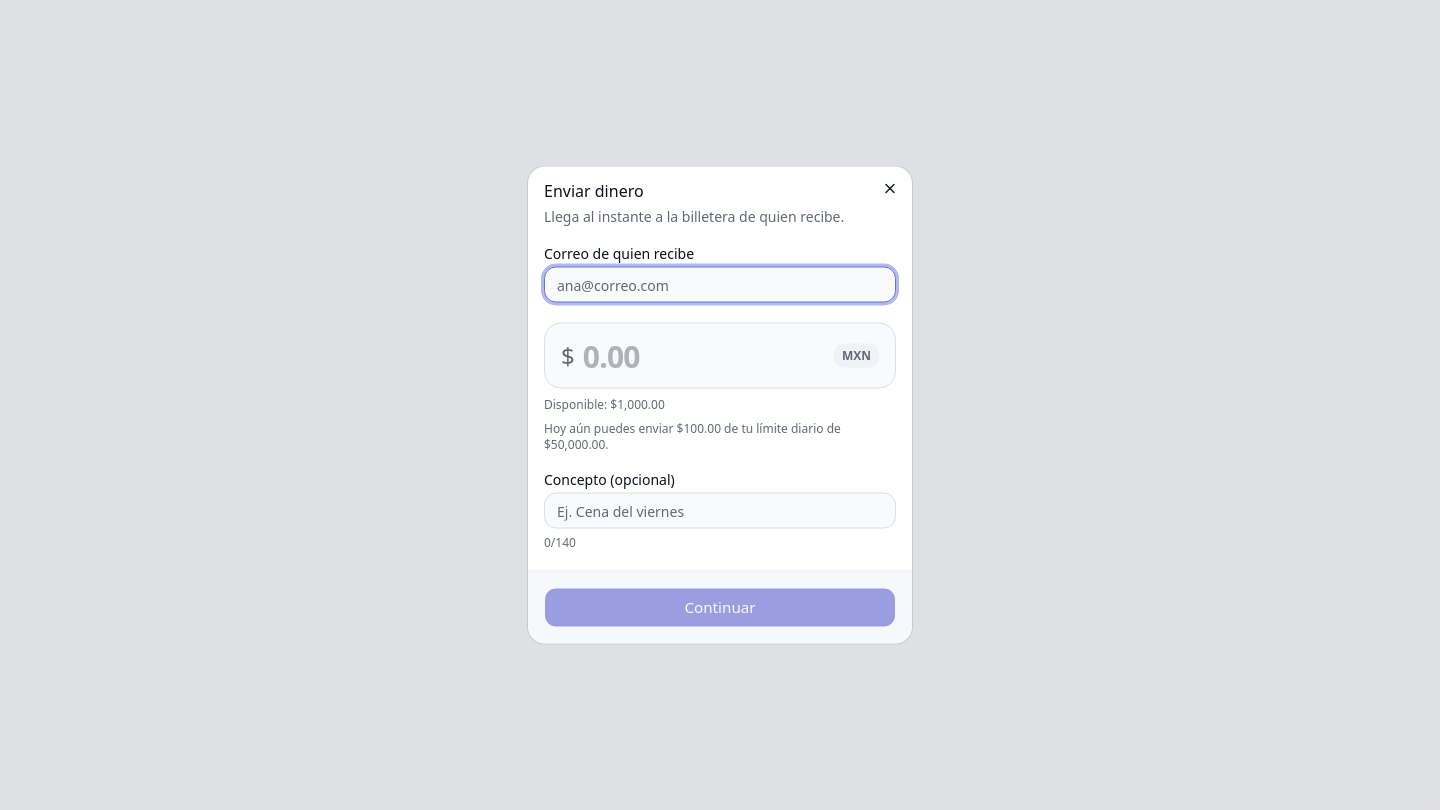
Test: TransferDialog › blocks amounts over what the daily limit still allows
Type "150" into the field named "Monto".
click(704, 356); type("150")  # box [583, 324, 826, 388]
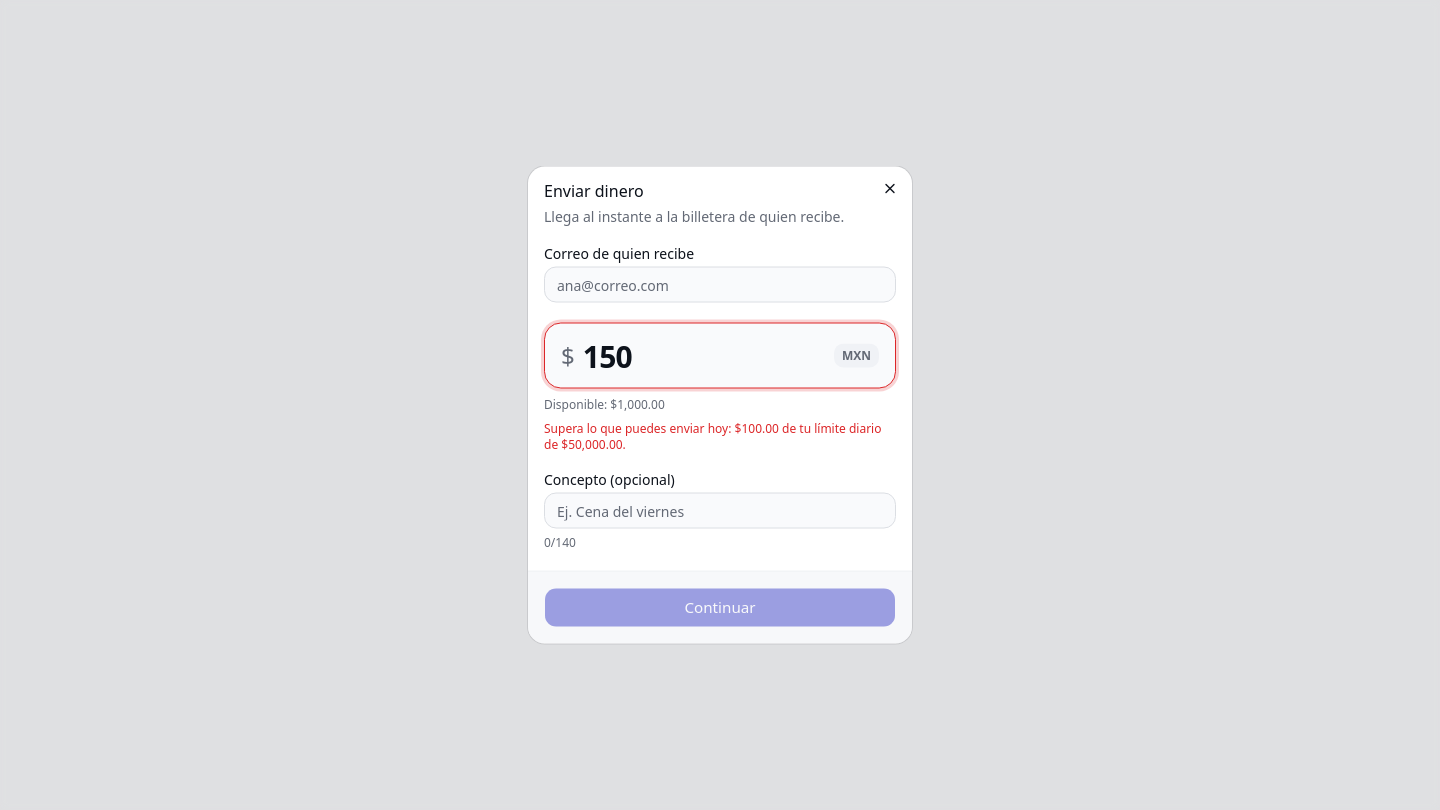
Expected: the button "Continuar" is disabled, [544, 588, 896, 628]
Now the text "Supera lo que puedes enviar hoy: $100.00" is shown, box [544, 420, 882, 452]
